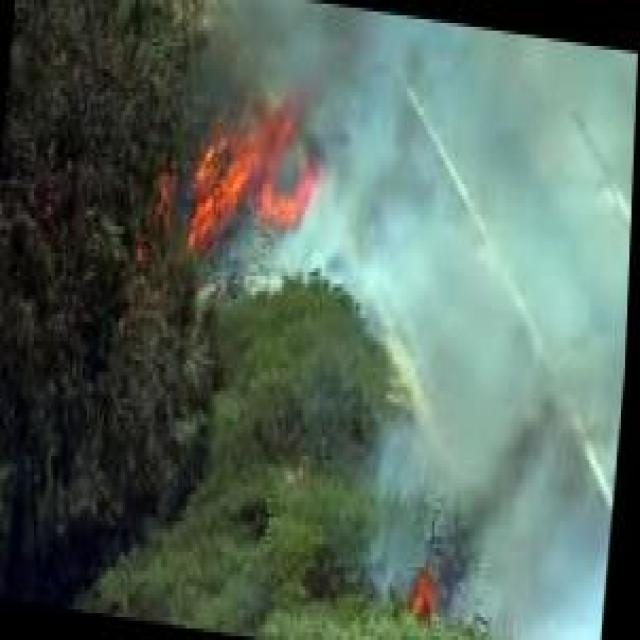Fire: (121, 68, 335, 292)
Smoke: (316, 0, 638, 318), (442, 306, 628, 614)
